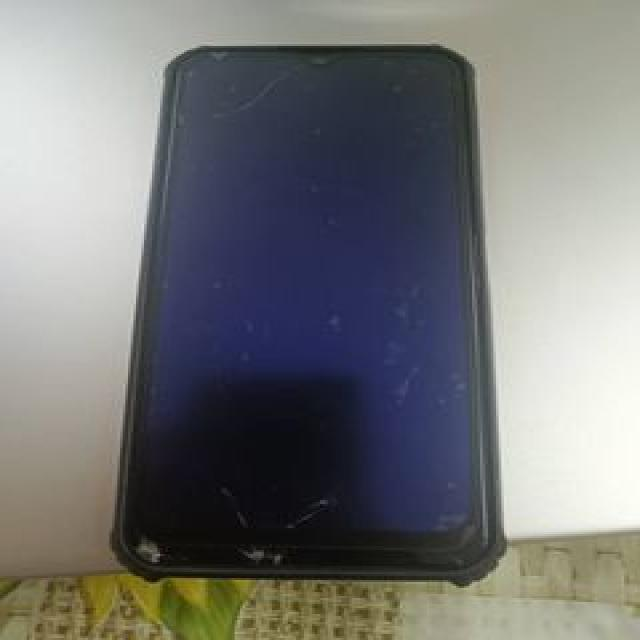mobile phone: (106, 40, 506, 586)
